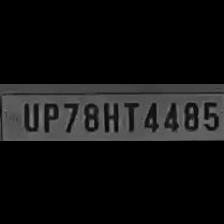4: (140, 98, 160, 132), (159, 97, 179, 131)
5: (200, 97, 220, 131)
7: (59, 99, 79, 134)
8: (79, 98, 99, 132), (179, 97, 199, 130)
H: (100, 98, 120, 132)
P: (40, 98, 60, 132)
T: (120, 98, 140, 132)
U: (17, 99, 39, 131)
